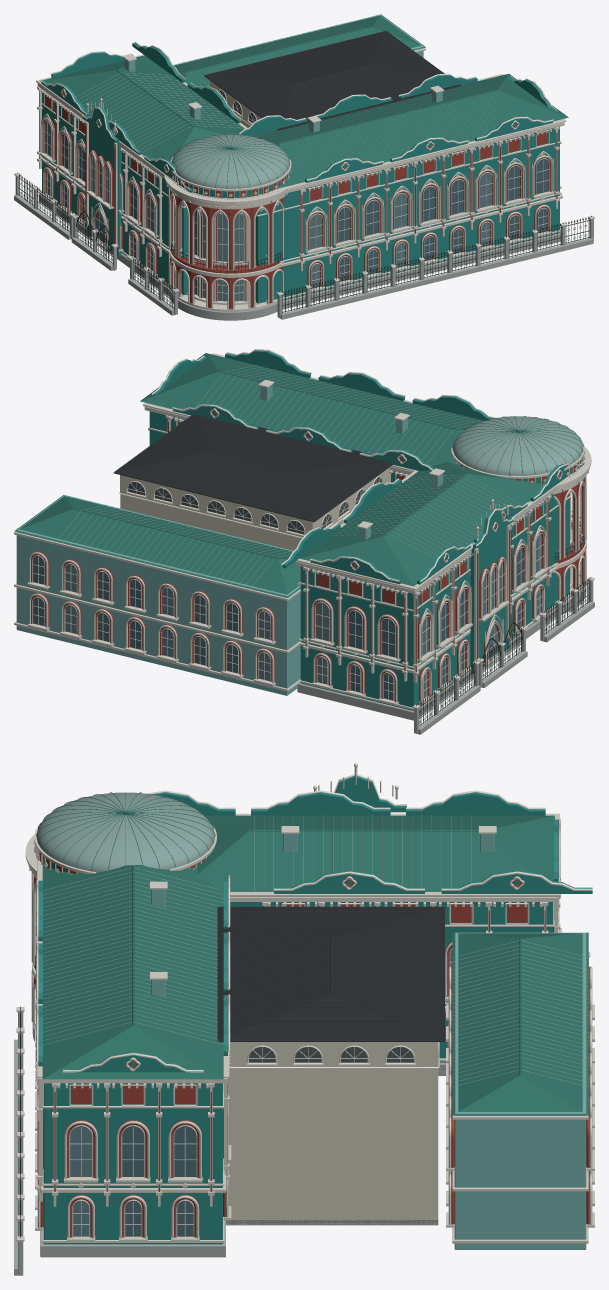
Rendered from sevastyanov-house.glb.
3 views of the same model, one above another, from view 1: azimuth 30°, elevation 25°; view 2: azimuth 150°, elevation 25°; view 3: azimuth 270°, elevation 25° (orthographic). The views are drawn at different scales.
Parts seen in each view (by area): view 1: SevastyanovExterior | Warm white | sculpted stucco, SevastyanovExterior | Patinated turquoise | standing seam ro, SevastyanovExterior | Malachite turquoise | painted masonry, SevastyanovExterior | Terracotta coral | recessed ornamental, SevastyanovModernHall | HALL | anthracite low pitch roof, SevastyanovExterior | Grey green | rotunda metal dome, SevastyanovExterior | Pale Ural granite | plinth, SevastyanovExterior | Graphite | wrought iron, SevastyanovExterior | Blue grey | alternate reflection, SevastyanovExterior | Blue grey | architectural glazing, SevastyanovModernHall | HALL | grey roof edge and seam caps, SevastyanovExterior | Pale green | courtyard walls (+1 smaller); view 2: SevastyanovExterior | Patinated turquoise | standing seam ro, SevastyanovExterior | Warm white | sculpted stucco, SevastyanovExterior | Malachite turquoise | painted masonry, SevastyanovExterior | Pale green | courtyard walls, SevastyanovModernHall | HALL | anthracite low pitch roof, SevastyanovExterior | Grey green | rotunda metal dome, SevastyanovExterior | Terracotta coral | recessed ornamental, SevastyanovExterior | Blue grey | architectural glazing, SevastyanovModernHall | HALL | pale cream mineral stucco, SevastyanovExterior | Pale Ural granite | plinth, SevastyanovExterior | Blue grey | alternate reflection, SevastyanovExterior | Graphite | wrought iron (+3 smaller); view 3: SevastyanovExterior | Patinated turquoise | standing seam ro, SevastyanovModernHall | HALL | pale cream mineral stucco, SevastyanovExterior | Warm white | sculpted stucco, SevastyanovExterior | Malachite turquoise | painted masonry, SevastyanovModernHall | HALL | anthracite low pitch roof, SevastyanovExterior | Grey green | rotunda metal dome, SevastyanovExterior | Pale green | courtyard walls, SevastyanovExterior | Terracotta coral | recessed ornamental, SevastyanovModernHall | HALL | grey roof edge and seam caps, SevastyanovExterior | Pale Ural granite | plinth, SevastyanovExterior | Blue grey | architectural glazing, SevastyanovExterior | Blue grey | alternate reflection (+3 smaller).
Part boxes in pixels (<box>): SevastyanovExterior | Warm white | sculpted stucco: <box>14,42,594,311</box>; SevastyanovExterior | Patinated turquoise | standing seam ro: <box>44,14,568,188</box>; SevastyanovExterior | Malachite turquoise | painted masonry: <box>41,42,559,303</box>; SevastyanovExterior | Terracotta coral | recessed ornamental: <box>39,90,557,309</box>; SevastyanovModernHall | HALL | anthracite low pitch roof: <box>204,31,459,130</box>; SevastyanovExterior | Grey green | rotunda metal dome: <box>76,23,513,188</box>; SevastyanovExterior | Pale Ural granite | plinth: <box>14,176,593,320</box>; SevastyanovExterior | Graphite | wrought iron: <box>17,173,591,312</box>; SevastyanovExterior | Blue grey | alternate reflection: <box>45,121,491,301</box>; SevastyanovExterior | Blue grey | architectural glazing: <box>62,133,548,280</box>; SevastyanovModernHall | HALL | grey roof edge and seam caps: <box>204,31,460,130</box>; SevastyanovExterior | Pale green | courtyard walls: <box>124,14,442,132</box>; SevastyanovExterior | Patinated turquoise | standing seam ro: <box>14,353,583,597</box>; SevastyanovExterior | Warm white | sculpted stucco: <box>14,349,594,710</box>; SevastyanovExterior | Malachite turquoise | painted masonry: <box>149,350,584,710</box>; SevastyanovExterior | Pale green | courtyard walls: <box>16,384,443,695</box>; SevastyanovModernHall | HALL | anthracite low pitch roof: <box>114,414,393,522</box>; SevastyanovExterior | Grey green | rotunda metal dome: <box>56,365,583,588</box>; SevastyanovExterior | Terracotta coral | recessed ornamental: <box>31,410,585,701</box>; SevastyanovExterior | Blue grey | architectural glazing: <box>33,547,523,700</box>; SevastyanovModernHall | HALL | pale cream mineral stucco: <box>120,467,390,550</box>; SevastyanovExterior | Pale Ural granite | plinth: <box>297,581,594,734</box>; SevastyanovExterior | Blue grey | alternate reflection: <box>66,533,541,699</box>; SevastyanovExterior | Graphite | wrought iron: <box>416,511,590,726</box>; SevastyanovExterior | Patinated turquoise | standing seam ro: <box>36,792,588,1115</box>; SevastyanovModernHall | HALL | pale cream mineral stucco: <box>226,1042,438,1224</box>; SevastyanovExterior | Warm white | sculpted stucco: <box>16,763,594,1243</box>; SevastyanovExterior | Malachite turquoise | painted masonry: <box>38,776,592,1244</box>; SevastyanovModernHall | HALL | anthracite low pitch roof: <box>219,907,444,1041</box>; SevastyanovExterior | Grey green | rotunda metal dome: <box>36,792,588,1086</box>; SevastyanovExterior | Pale green | courtyard walls: <box>151,834,586,1249</box>; SevastyanovExterior | Terracotta coral | recessed ornamental: <box>33,850,589,1237</box>; SevastyanovModernHall | HALL | grey roof edge and seam caps: <box>217,906,444,1041</box>; SevastyanovExterior | Pale Ural granite | plinth: <box>14,957,588,1275</box>; SevastyanovExterior | Blue grey | architectural glazing: <box>122,1125,196,1236</box>; SevastyanovExterior | Blue grey | alternate reflection: <box>70,949,452,1236</box>.
Bounding box in the file's own units: 41.54 × 15.71 × 35.33.
